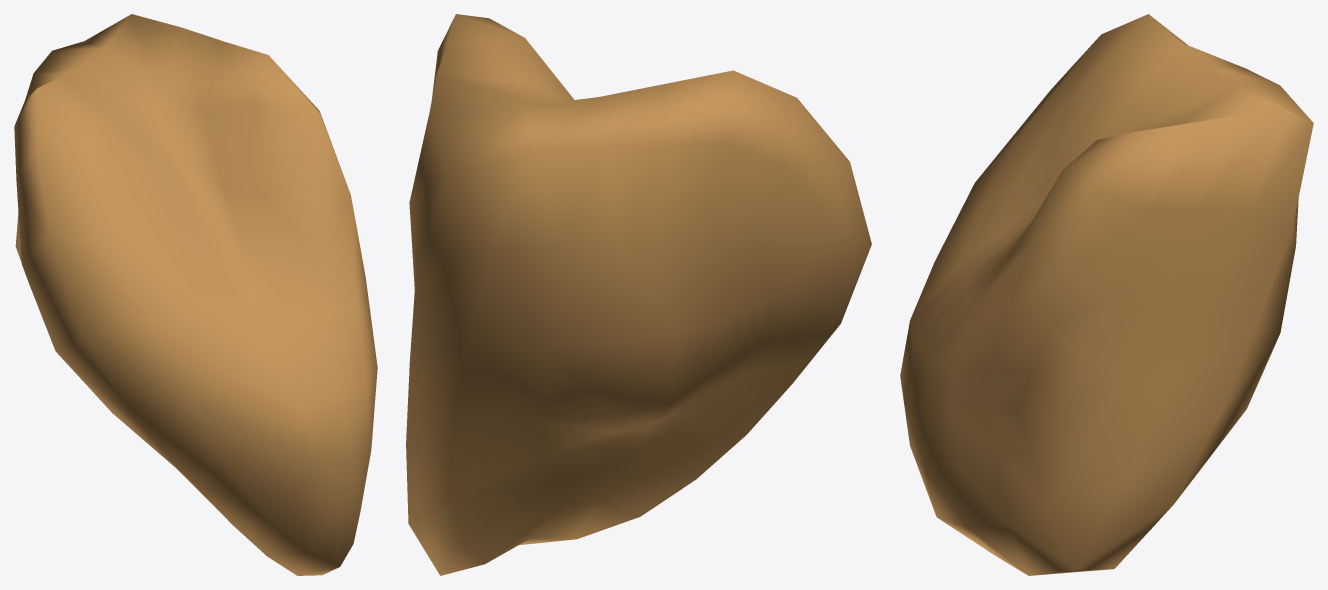
Rendered from coxa_T3_left_leg.obj.
The picture shows the model from 3 angles, left to right: view 1: azimuth 30°, elevation 25°; view 2: azimuth 150°, elevation 25°; view 3: azimuth 270°, elevation 25°; orthographic projection. The views are drawn at different scales.
Size of the model in its own units: 0.0158 by 0.0224 by 0.0186.
